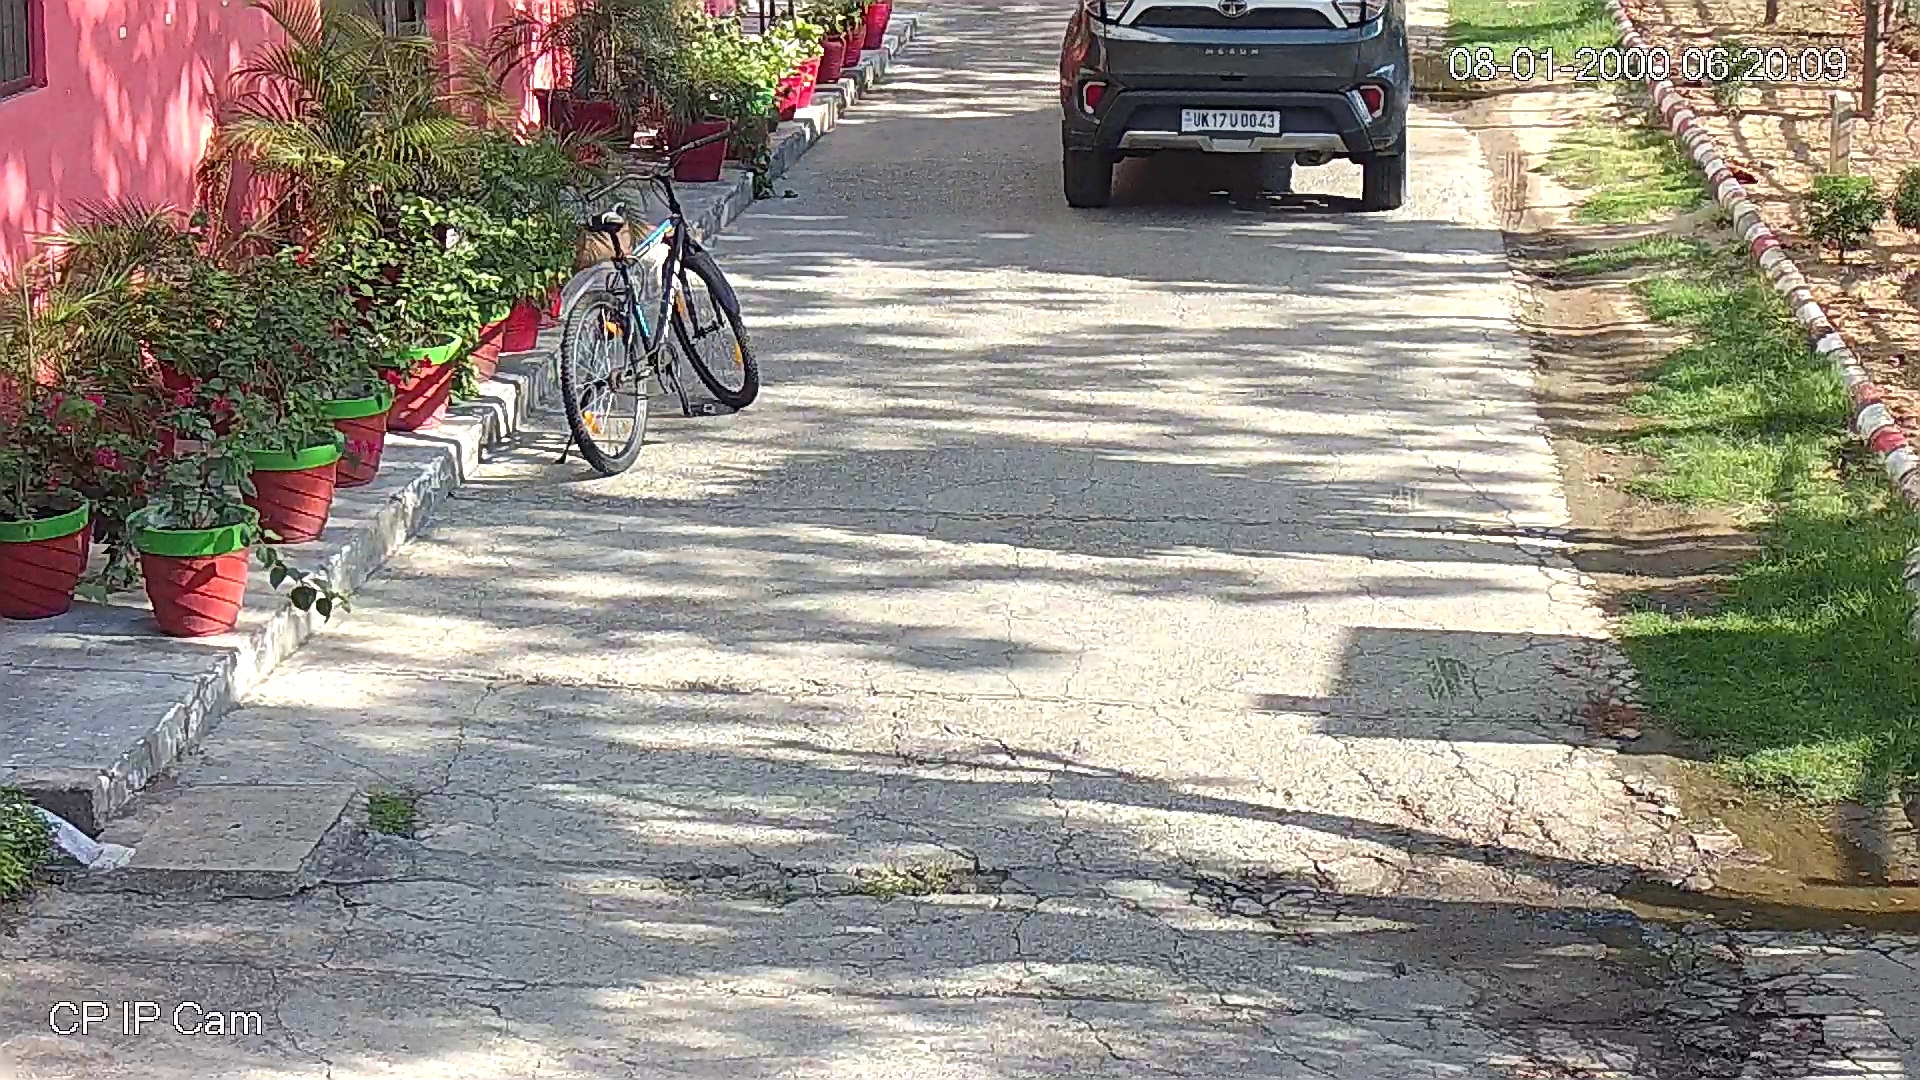plate: (1178, 105, 1279, 136)
